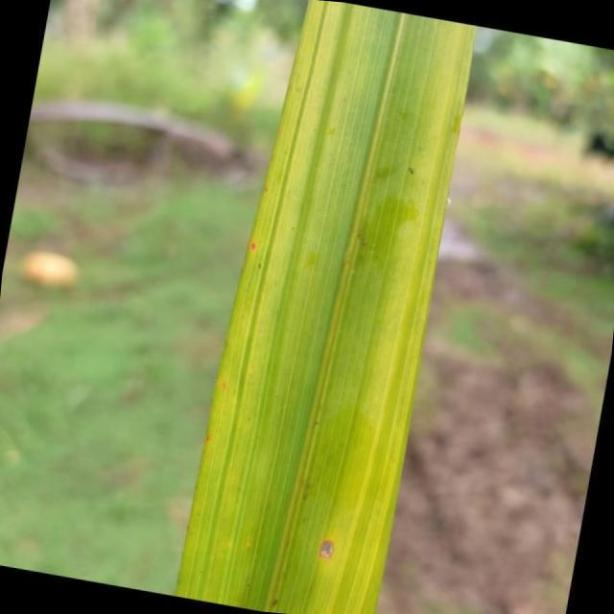nitrogen: (176, 0, 468, 614)
